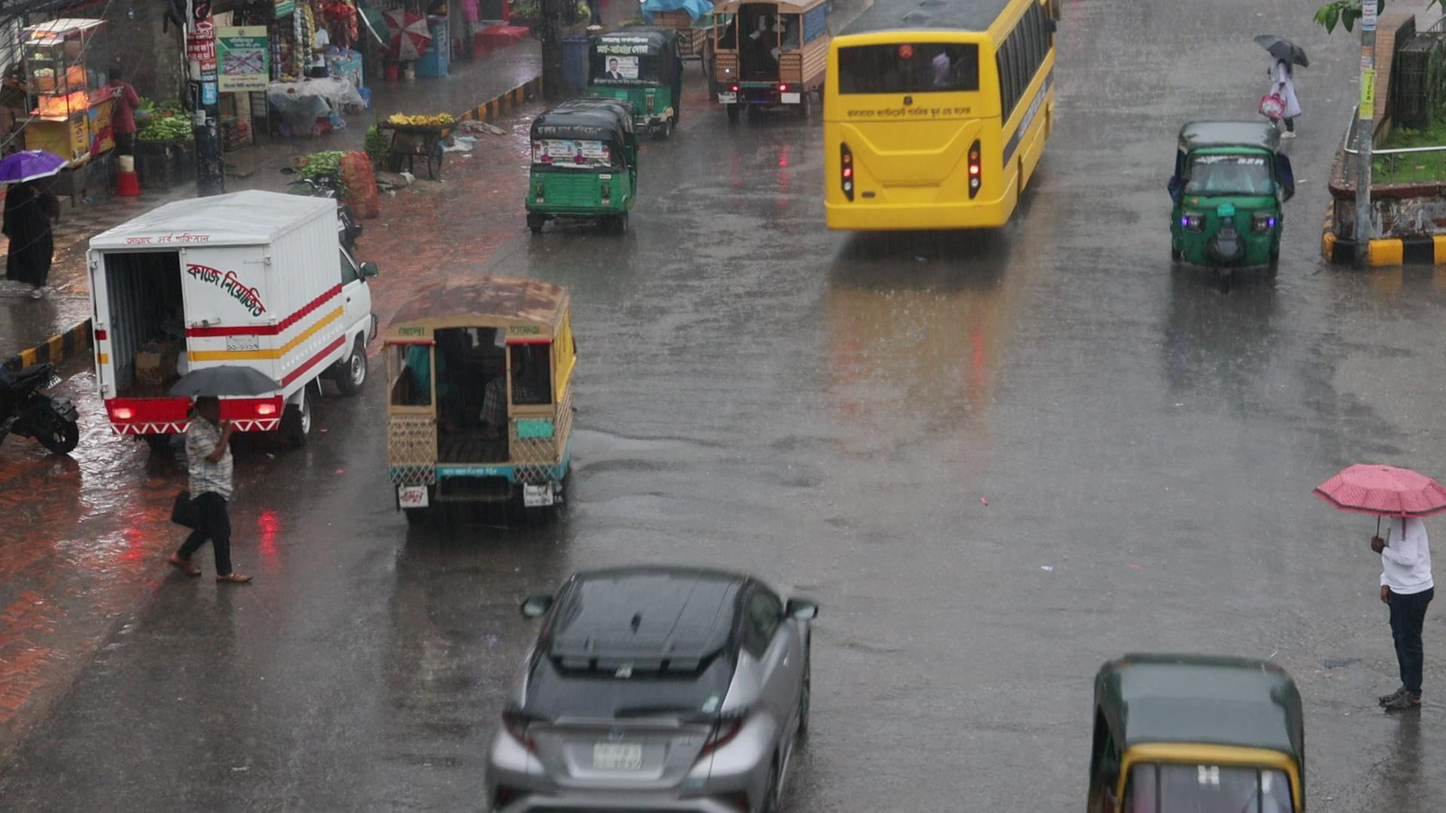Bus: (820, 0, 1063, 234)
Car: (481, 564, 818, 813)
Truck: (377, 272, 575, 524)
